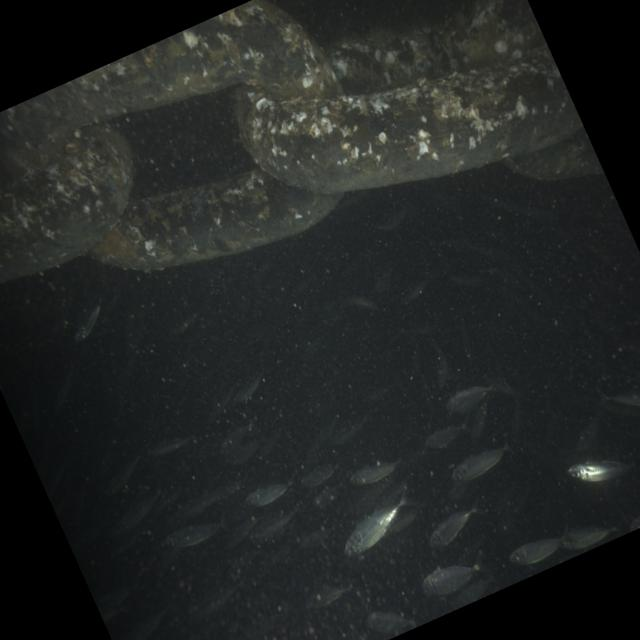ChainLink: (238, 29, 583, 192), (37, 0, 340, 126), (93, 167, 338, 269), (0, 113, 133, 282), (505, 125, 604, 179), (466, 0, 547, 66)
